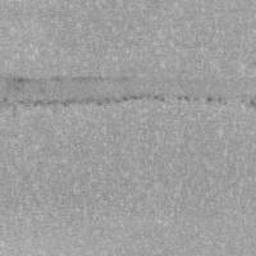Inclusion: (0, 72, 256, 110)
